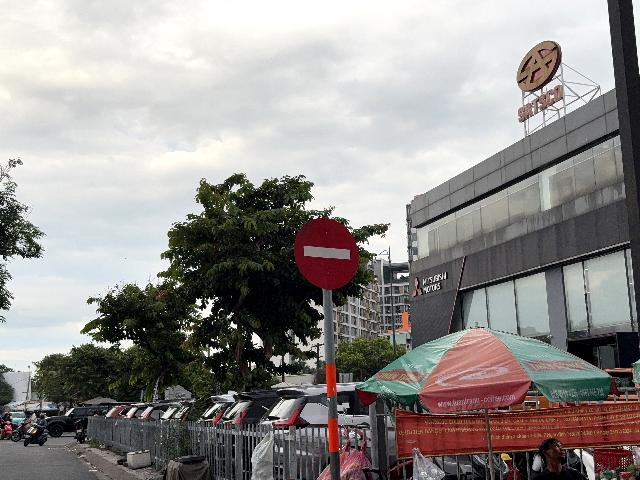cam-di-nguoc-chieu: (294, 218, 359, 290)
